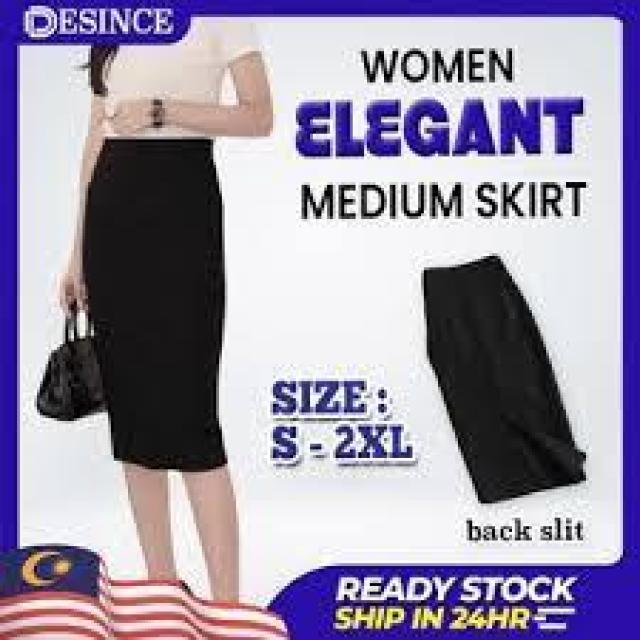skirt: (82, 134, 234, 472), (420, 255, 590, 508)
